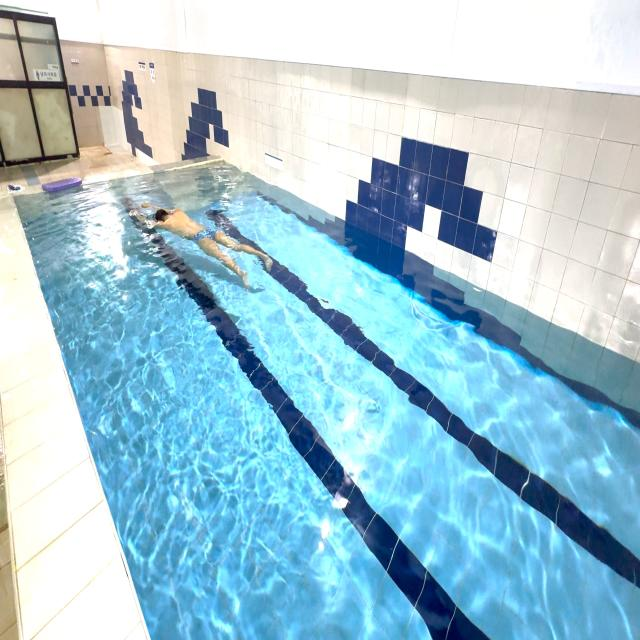Swimming: (121, 180, 277, 302)
